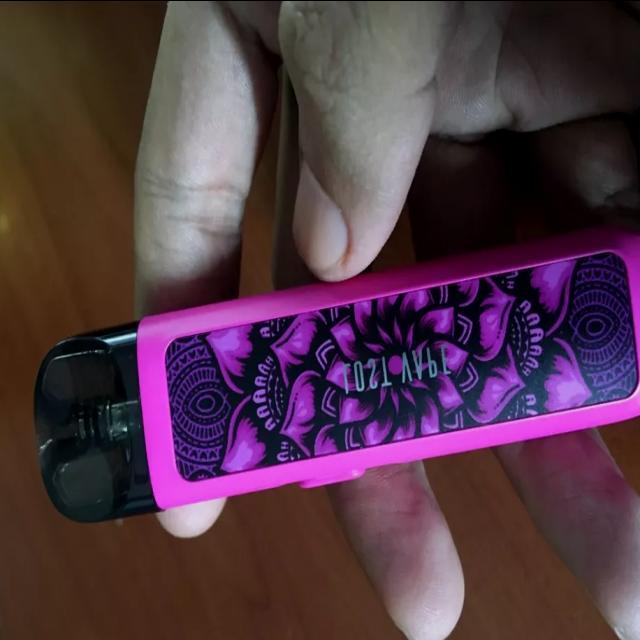Hazard: (37, 224, 640, 527)
